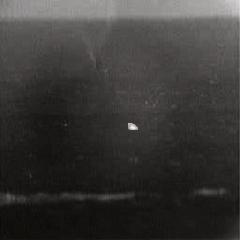Target: (126, 122, 137, 132)
